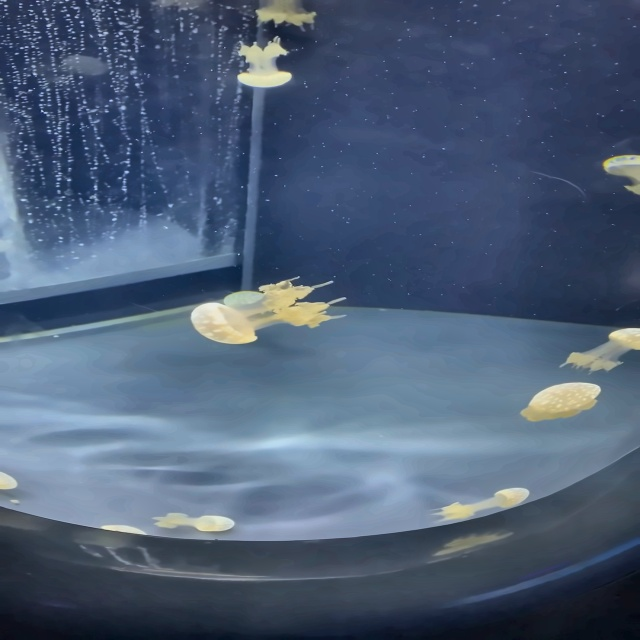jellyfish: (425, 485, 536, 524), (184, 301, 259, 344), (521, 381, 604, 419), (234, 71, 294, 89), (190, 511, 238, 533), (601, 153, 639, 180), (495, 484, 533, 506), (609, 327, 639, 351), (0, 470, 23, 494)
